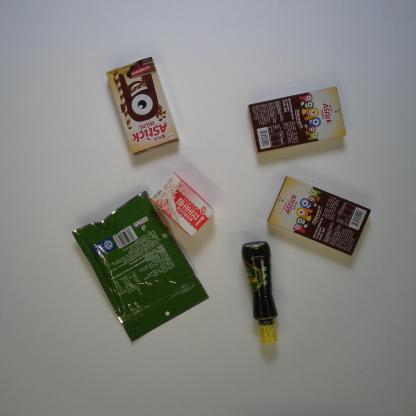Dessert: (262, 174, 372, 256), (105, 55, 180, 157), (247, 85, 350, 155)
Dried Fruit: (70, 187, 211, 344)
Milk: (148, 170, 218, 239)
Seasoner: (241, 240, 280, 349)
